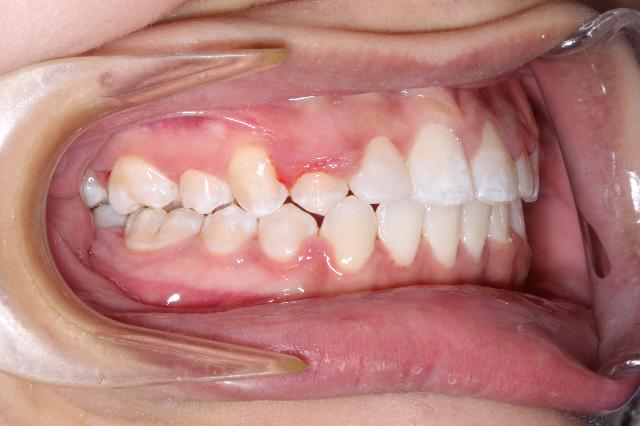canine class II 1/4: (255, 161, 379, 275)
molar class III 1/2: (102, 152, 206, 260)
